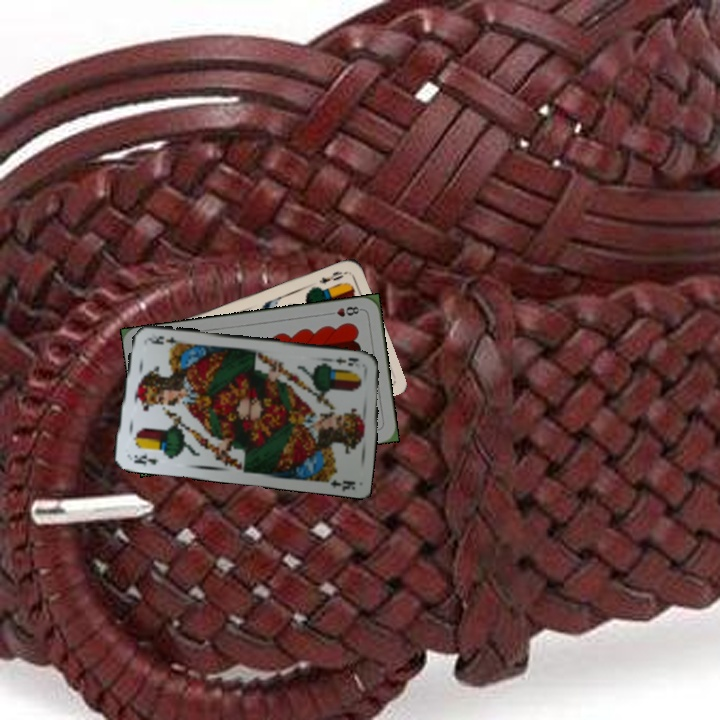EK: (130, 450, 161, 468), (332, 352, 361, 368)
EO: (315, 267, 350, 286)
H8: (324, 302, 364, 319)
